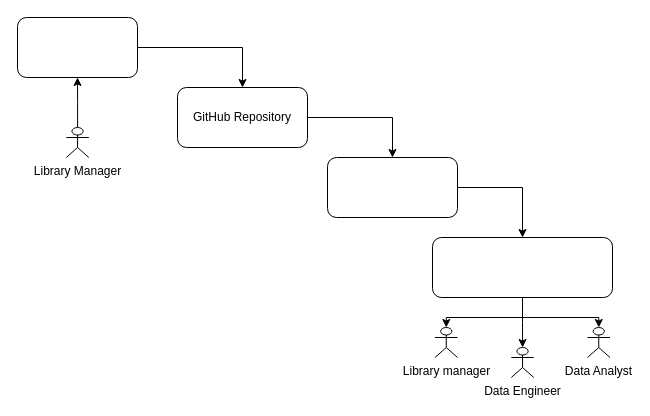
The diagram is 650 pixels wide and 416 high, and some of its shapes have lost their labels. The shapes that lost their labels are listed below. From the top down, each one's centre as x and y in pixels, then its label:
At [77,47]: "CSV".
At [392,187]: "Transform the data in Azure D evops environment using VS Code".
At [522,267]: "Load transformed data ready to be analysed using power BI".
